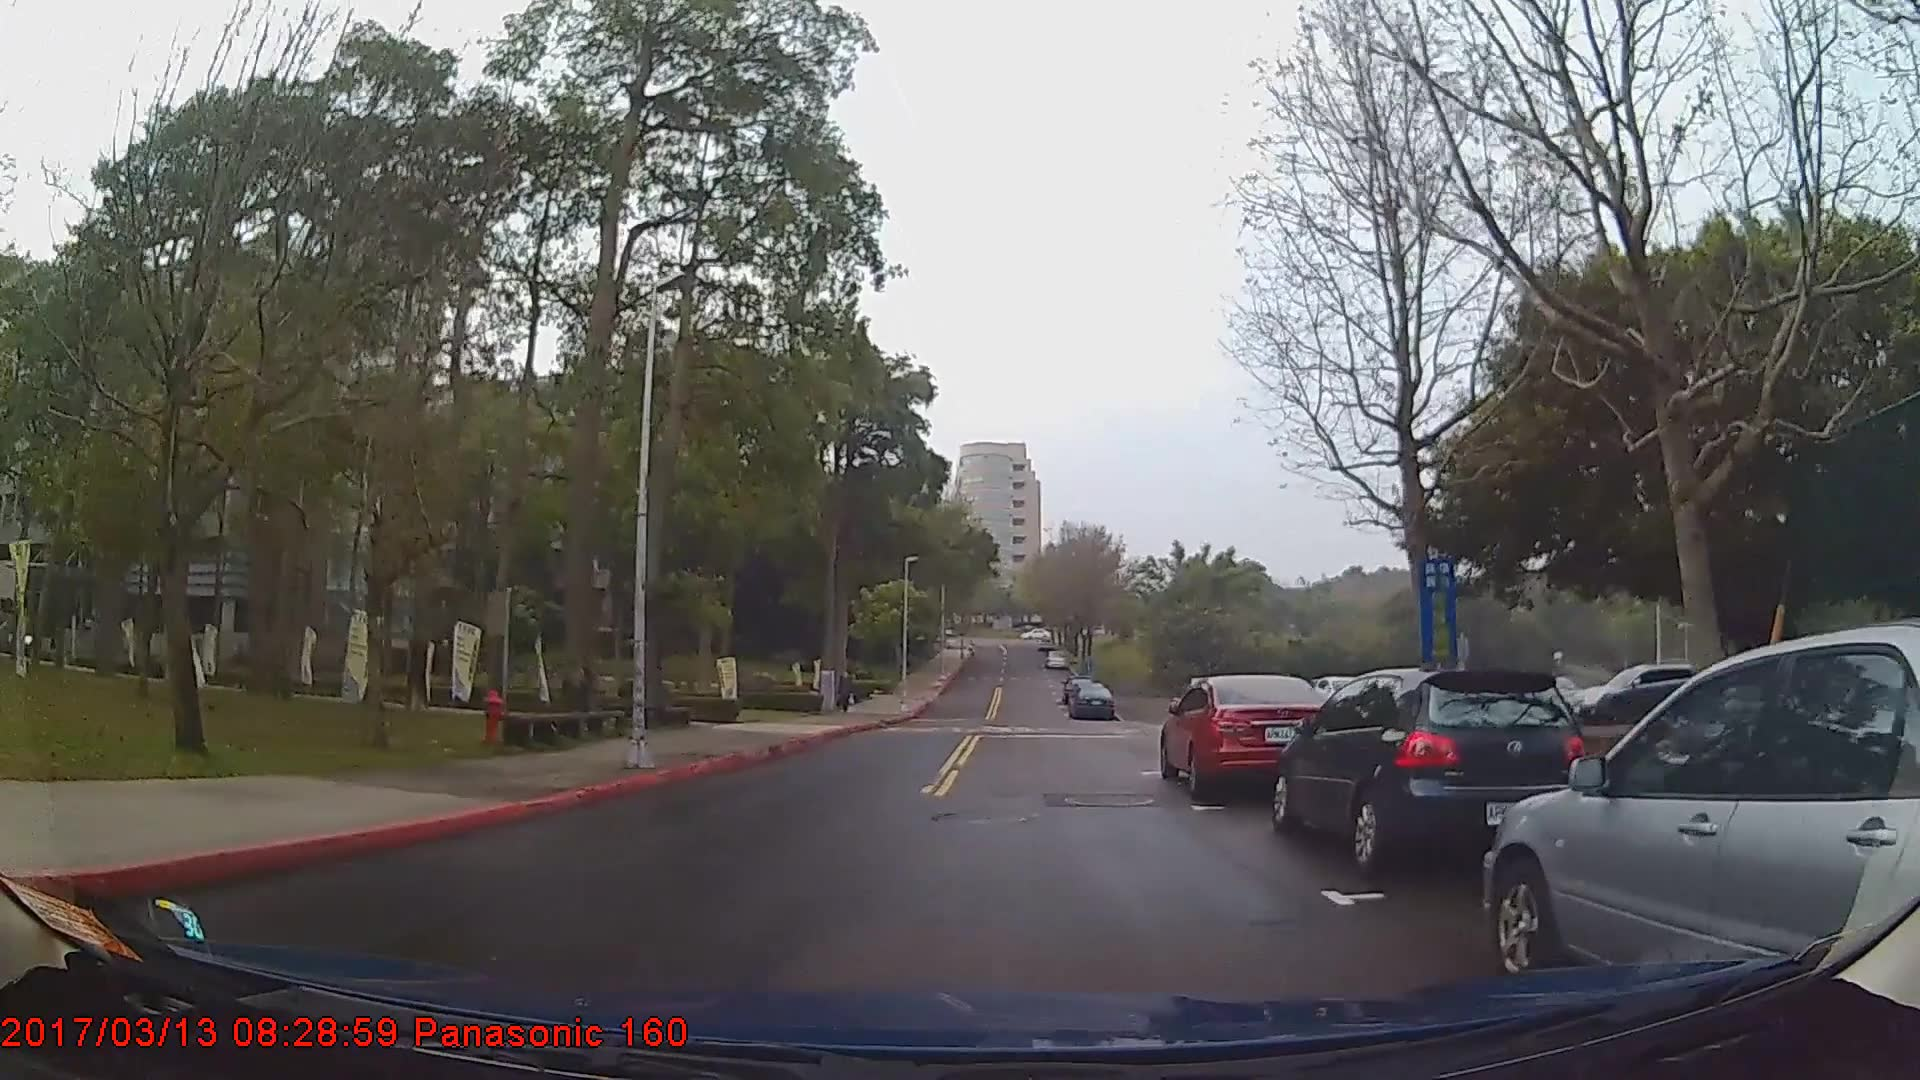vehicle: (1481, 620, 1920, 1000), (1271, 670, 1582, 873), (1156, 678, 1335, 804), (1575, 662, 1716, 727), (1067, 684, 1117, 723)
